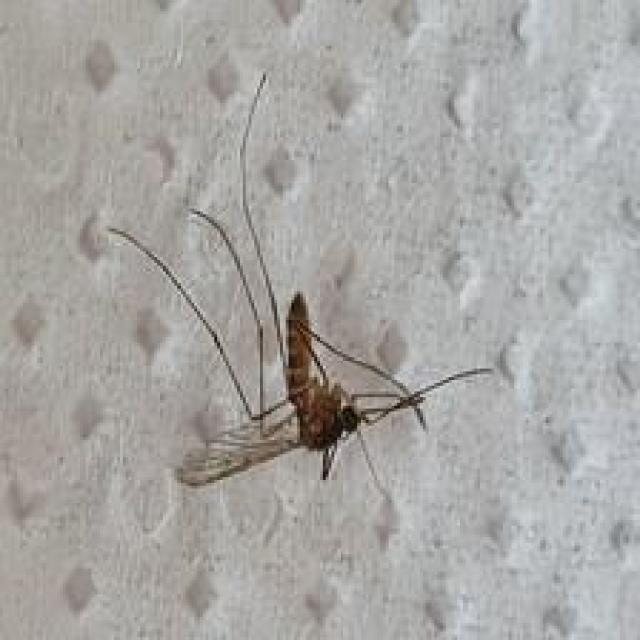Culex: (106, 70, 494, 499)
